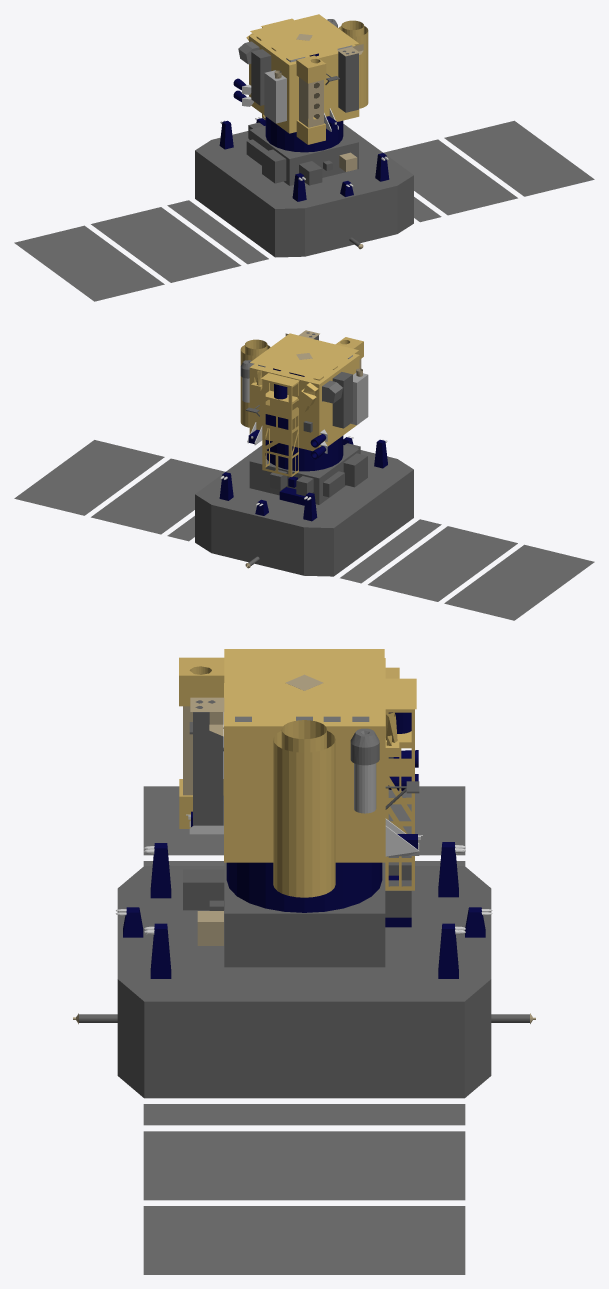
File: soho-preview.glb
The picture shows the model from 3 angles, top to bottom: view 1: azimuth 30°, elevation 25°; view 2: azimuth 150°, elevation 25°; view 3: azimuth 270°, elevation 25°; orthographic projection. The views are drawn at different scales.
Visible parts, largest first — view 1: Fake; view 2: Fake; view 3: Fake.
Boxes of the visible parts, left/top/right/bottom form: Fake: left=14, top=14, right=594, bottom=301; Fake: left=14, top=330, right=594, bottom=620; Fake: left=73, top=649, right=535, bottom=1274.
Bounding box in the file's own units: 43.27 × 14.43 × 17.34.
